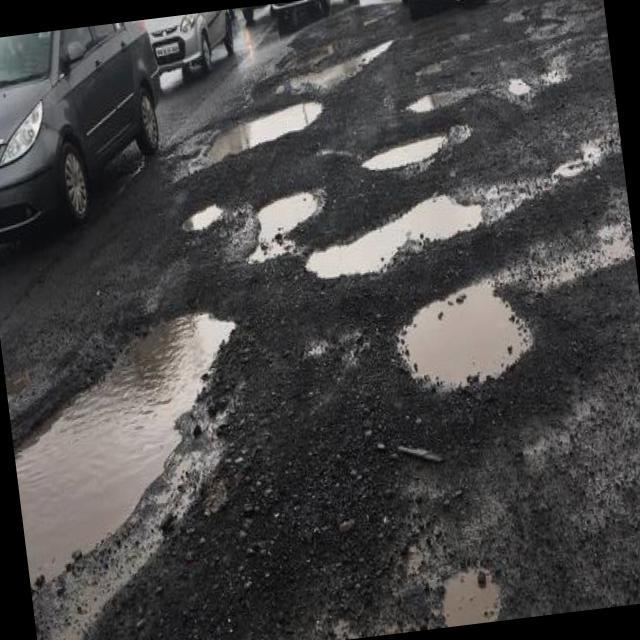Pothole: (0, 276, 269, 605), (288, 178, 494, 283), (385, 272, 542, 398), (187, 94, 329, 156), (429, 550, 506, 628), (288, 42, 396, 94), (355, 122, 453, 176), (240, 184, 332, 230), (402, 78, 474, 120), (178, 196, 224, 237), (508, 74, 532, 98)
